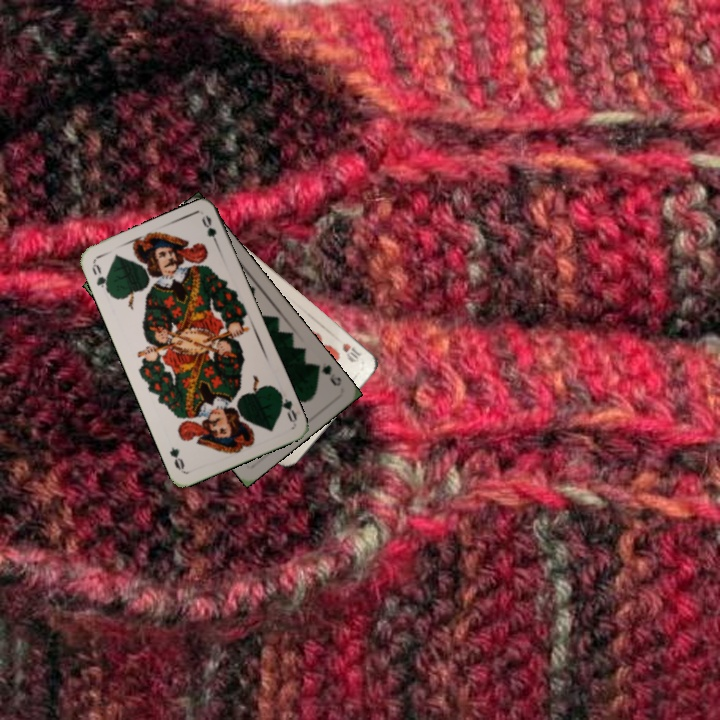G9: (309, 359, 344, 389)
GO: (273, 387, 300, 425), (88, 260, 113, 297)
H10: (338, 339, 365, 365)
